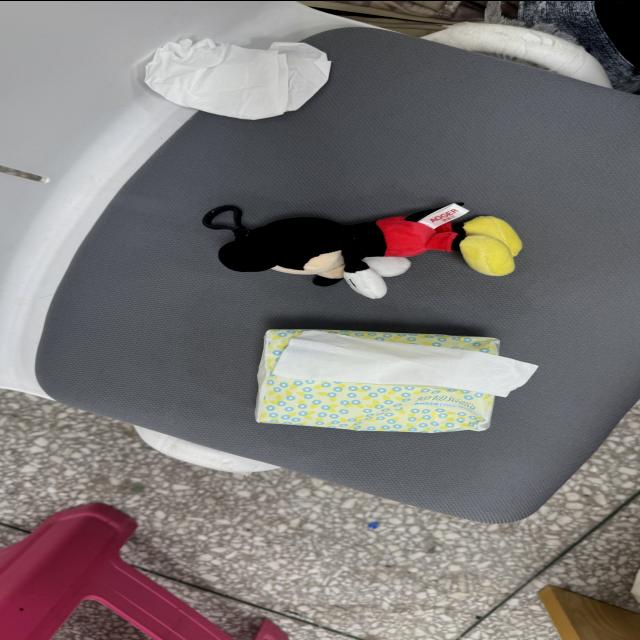mickey: (203, 205, 521, 297)
tissue: (256, 329, 494, 431), (274, 330, 537, 395), (146, 38, 330, 118), (270, 42, 331, 110)
